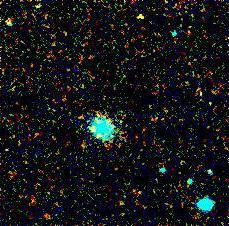star: (126, 2, 156, 32)
